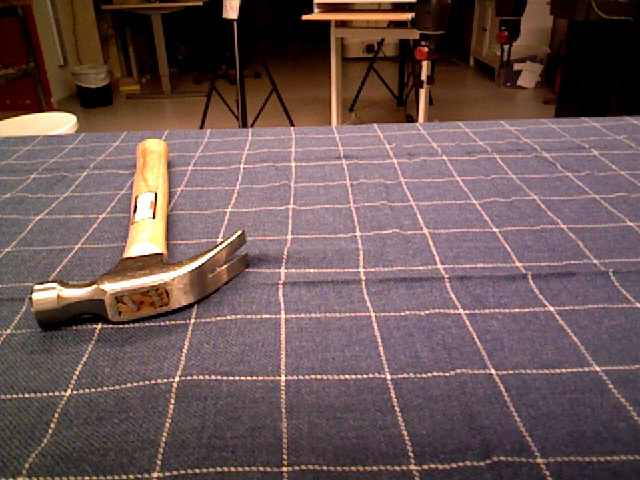hammer1: (31, 137, 252, 334)
